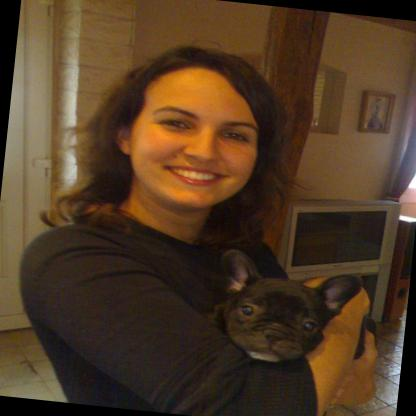French_bulldog: (214, 239, 368, 374)
